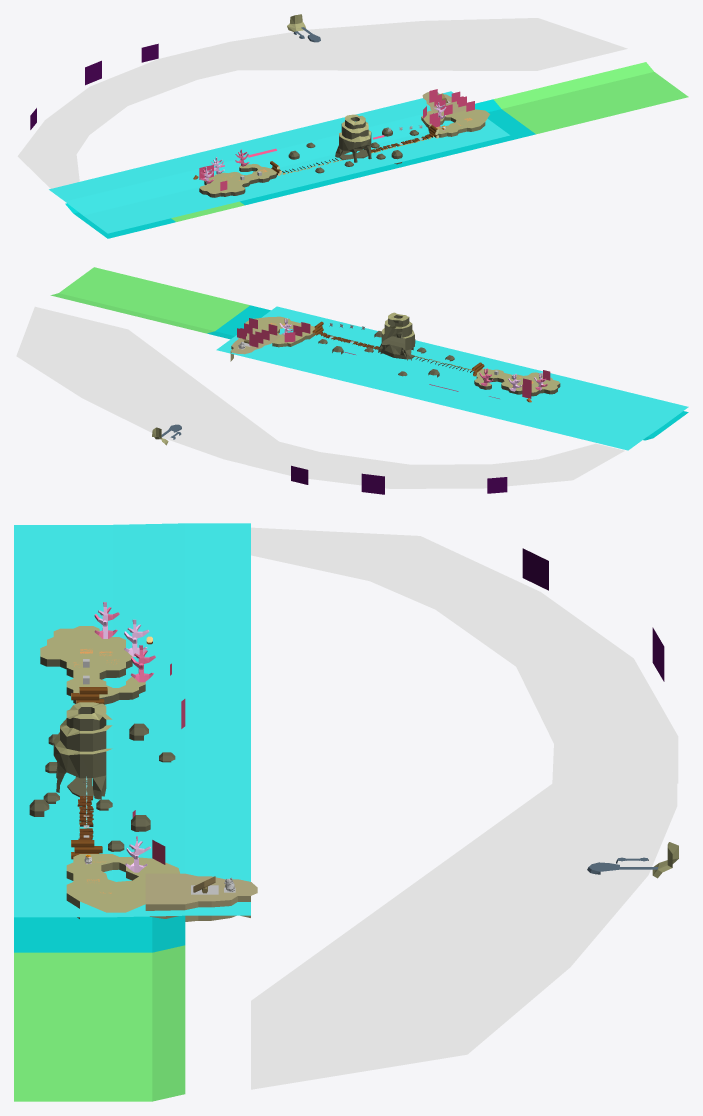
The picture shows the model from 3 angles, top to bottom: view 1: azimuth 30°, elevation 25°; view 2: azimuth 150°, elevation 25°; view 3: azimuth 270°, elevation 25°; orthographic projection. The views are drawn at different scales.
Parts seen in each view (by area): view 1: 132_default, 134_26364993_c.bmp, 001_3850AAEA_c.bmp, 135_26364993_c.bmp, 133_26364993_c.bmp, 000_3850AAEA_c.bmp, 024_5DA86331_c.bmp, 030_5DA86331_c.bmp, 022_4DD86D7_c.bmp, 045_3A5FE044_c.bmp, 018_5DA86331_c.bmp, 023_7FA1F81_c.bmp (+1 smaller); view 2: 132_default, 134_26364993_c.bmp, 135_26364993_c.bmp, 001_3850AAEA_c.bmp, 133_26364993_c.bmp, 022_4DD86D7_c.bmp, 045_3A5FE044_c.bmp, 000_3850AAEA_c.bmp, 024_5DA86331_c.bmp, 030_5DA86331_c.bmp, 034_235A1608_c.bmp, 029_5DA86331_c.bmp (+1 smaller); view 3: 132_default, 134_26364993_c.bmp, 001_3850AAEA_c.bmp, 135_26364993_c.bmp, 133_26364993_c.bmp, 000_3850AAEA_c.bmp, 024_5DA86331_c.bmp, 030_5DA86331_c.bmp, 022_4DD86D7_c.bmp, 029_5DA86331_c.bmp, 045_3A5FE044_c.bmp, 018_5DA86331_c.bmp (+3 smaller).
Boxes of the visible parts, x1,y1,x2,y2 form: 132_default: (17, 18, 627, 188); 134_26364993_c.bmp: (49, 156, 244, 233); 001_3850AAEA_c.bmp: (171, 62, 688, 221); 135_26364993_c.bmp: (186, 122, 381, 199); 133_26364993_c.bmp: (323, 91, 509, 166); 000_3850AAEA_c.bmp: (65, 99, 535, 238); 024_5DA86331_c.bmp: (199, 164, 276, 193); 030_5DA86331_c.bmp: (421, 109, 489, 133); 022_4DD86D7_c.bmp: (339, 117, 371, 162); 045_3A5FE044_c.bmp: (30, 43, 158, 129); 018_5DA86331_c.bmp: (339, 114, 370, 142); 023_7FA1F81_c.bmp: (199, 167, 276, 197); 132_default: (16, 306, 624, 488); 134_26364993_c.bmp: (488, 373, 688, 450); 135_26364993_c.bmp: (348, 340, 542, 416); 001_3850AAEA_c.bmp: (50, 267, 249, 333); 133_26364993_c.bmp: (216, 306, 385, 381); 022_4DD86D7_c.bmp: (381, 315, 415, 359); 045_3A5FE044_c.bmp: (291, 465, 507, 494); 000_3850AAEA_c.bmp: (207, 305, 688, 440); 024_5DA86331_c.bmp: (474, 368, 559, 392); 030_5DA86331_c.bmp: (245, 316, 314, 343); 034_235A1608_c.bmp: (237, 323, 269, 347); 029_5DA86331_c.bmp: (230, 329, 280, 354); 132_default: (251, 527, 678, 1089); 134_26364993_c.bmp: (14, 523, 250, 658); 001_3850AAEA_c.bmp: (14, 945, 185, 1101); 135_26364993_c.bmp: (14, 657, 250, 791); 133_26364993_c.bmp: (14, 790, 250, 917); 000_3850AAEA_c.bmp: (14, 915, 185, 952); 024_5DA86331_c.bmp: (40, 626, 145, 698); 030_5DA86331_c.bmp: (66, 854, 179, 912); 022_4DD86D7_c.bmp: (53, 707, 106, 792); 029_5DA86331_c.bmp: (145, 873, 257, 904); 045_3A5FE044_c.bmp: (522, 548, 664, 681); 018_5DA86331_c.bmp: (53, 702, 112, 755).
Bounding box in the file's own units: 8.14 × 0.61 × 4.1.
